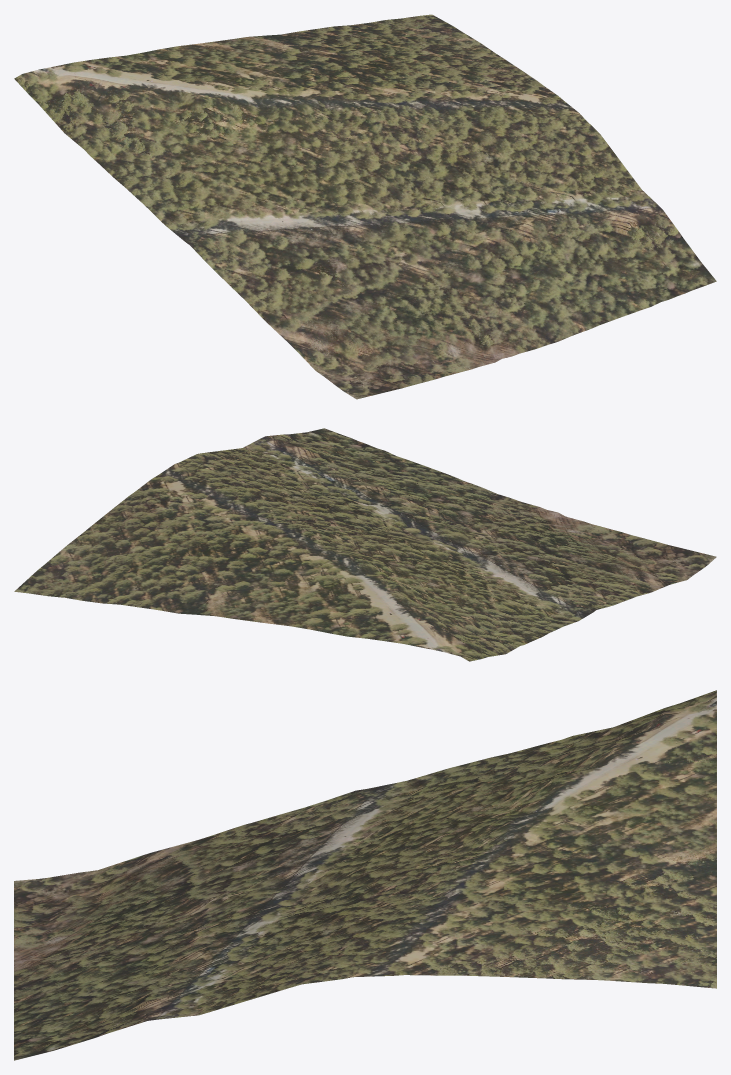
The model's file is CM_Terrain_24485954_6820408.fbx.
The picture shows the model from 3 angles, top to bottom: view 1: azimuth 30°, elevation 25°; view 2: azimuth 150°, elevation 25°; view 3: azimuth 270°, elevation 25°; orthographic projection. The views are drawn at different scales.
Visible parts, largest first — view 1: CM_Terrain_24485954_6820408_LOD0; view 2: CM_Terrain_24485954_6820408_LOD0; view 3: CM_Terrain_24485954_6820408_LOD0.
Boxes of the visible parts, x1=… form: CM_Terrain_24485954_6820408_LOD0: x1=14, y1=14, x2=716, y2=399; CM_Terrain_24485954_6820408_LOD0: x1=14, y1=428, x2=716, y2=661; CM_Terrain_24485954_6820408_LOD0: x1=14, y1=690, x2=716, y2=1060.
Size of what is drawn, in the model's own units: 174 by 51.33 by 205.
